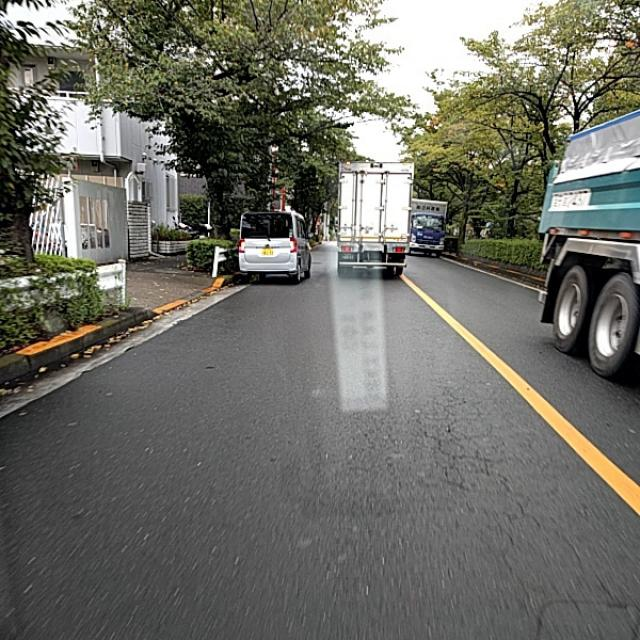pothole: (403, 420, 588, 557)
